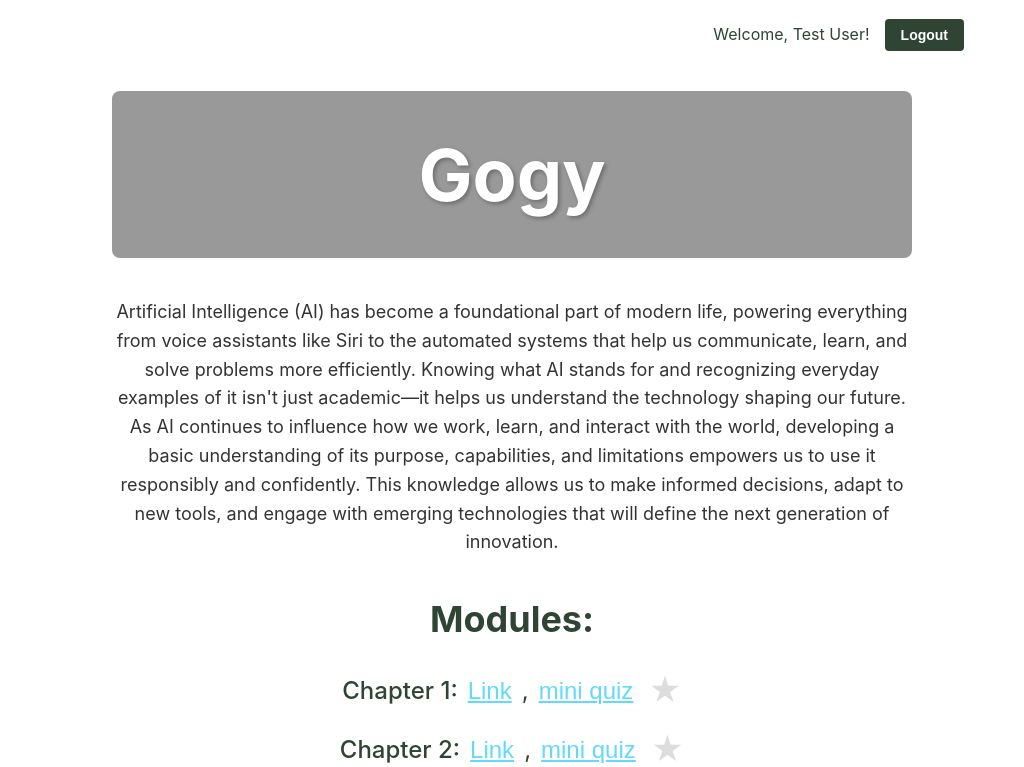
Test: Quiz Feature Tests › should enable submit button only after all questions are answered
# Navigate to quiz
Click the 1st button "mini quiz" at (586, 691), box 539,677 -> 633,705
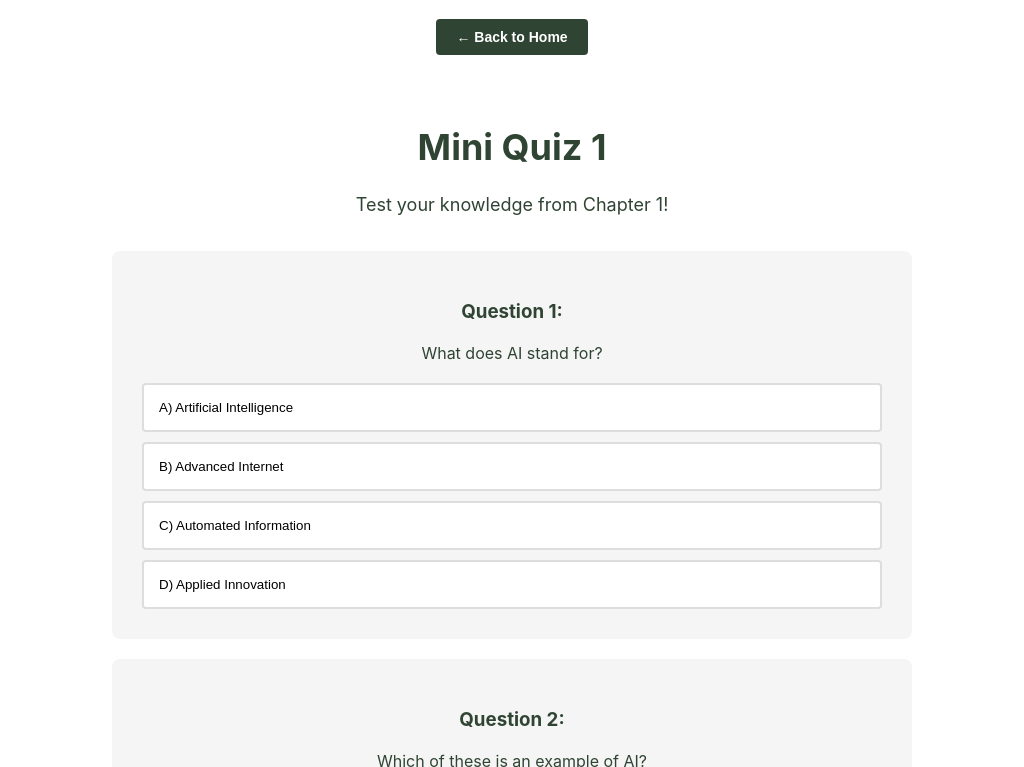
# Answer first question
Click the button "A) Artificial Intelligence" at (234, 408), box 142,383 -> 882,432
(page scrolled)
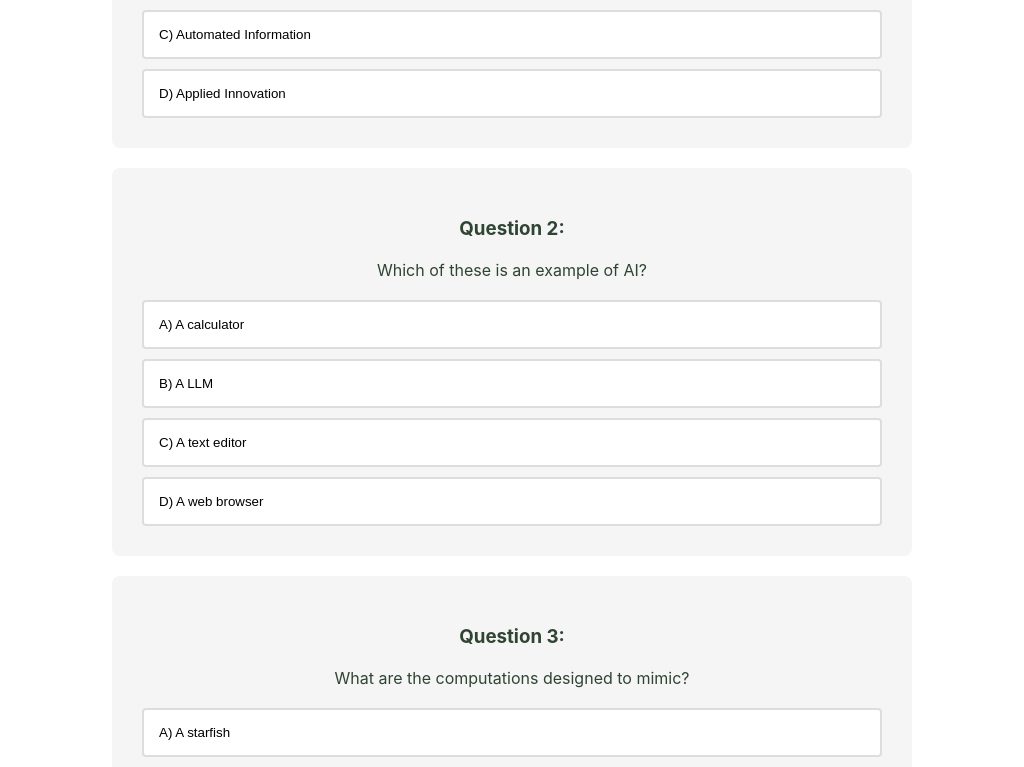
# Answer second question
Click the button "B) A LLM" at (194, 383), box 142,359 -> 882,408
(page scrolled)
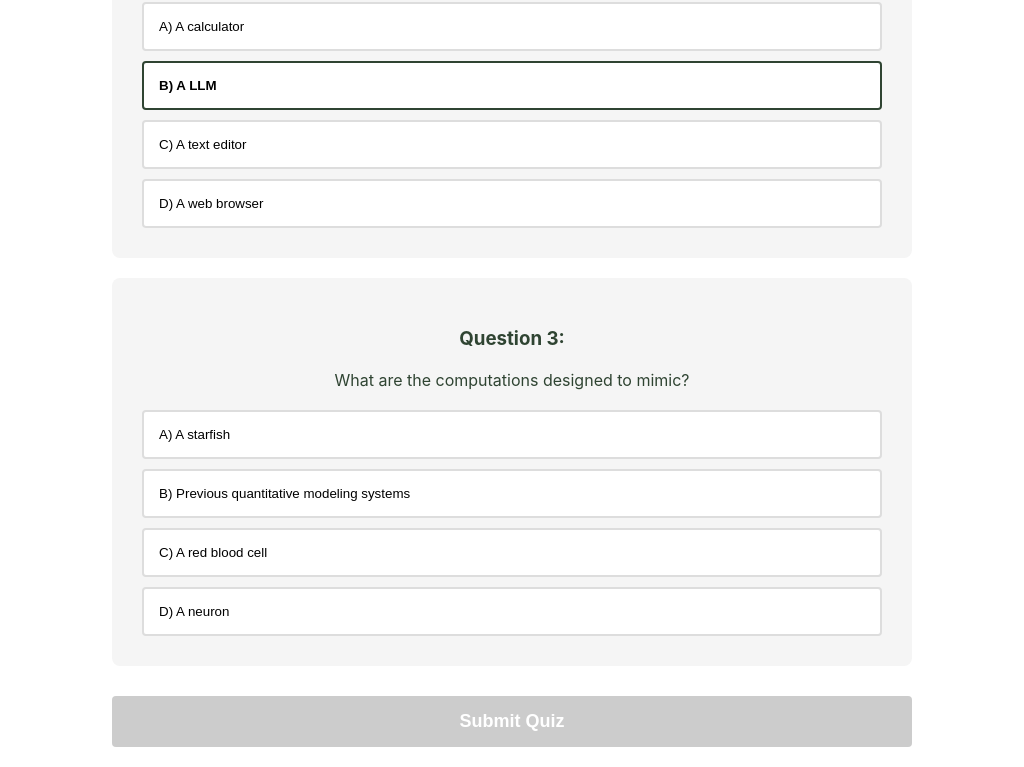
Now the button "Submit Quiz" is disabled, box 112,696 -> 912,746
Click the button "D) A neuron" at (203, 611), box 142,586 -> 882,636
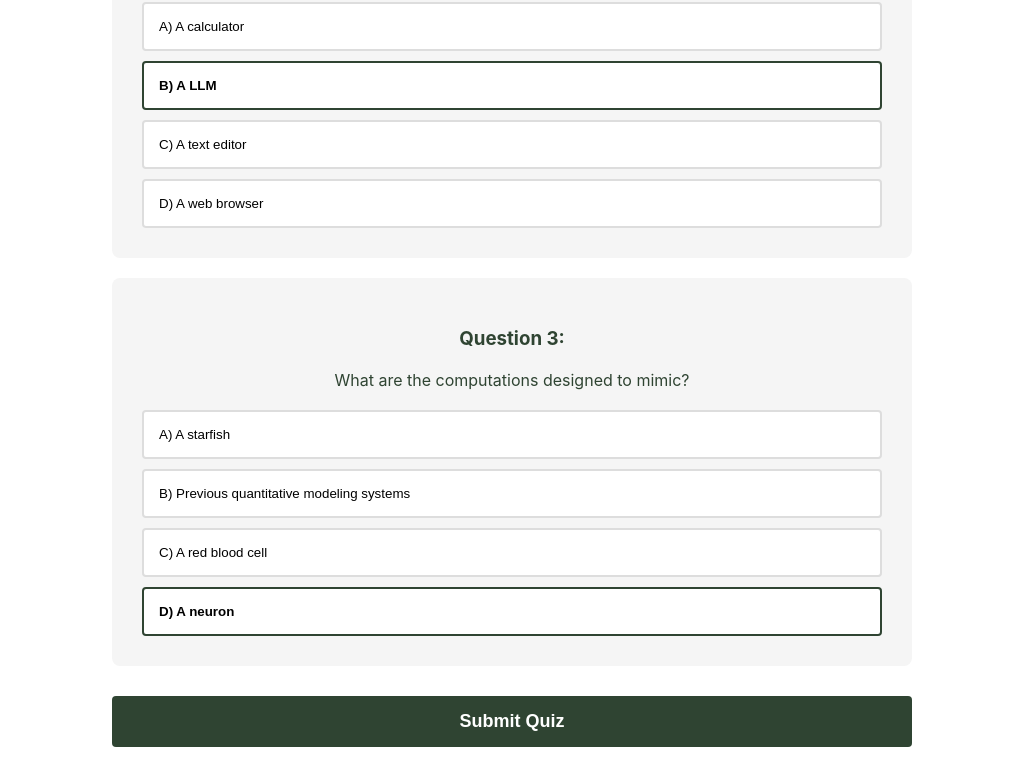
Now the button "Submit Quiz" is enabled, box 112,696 -> 912,746
